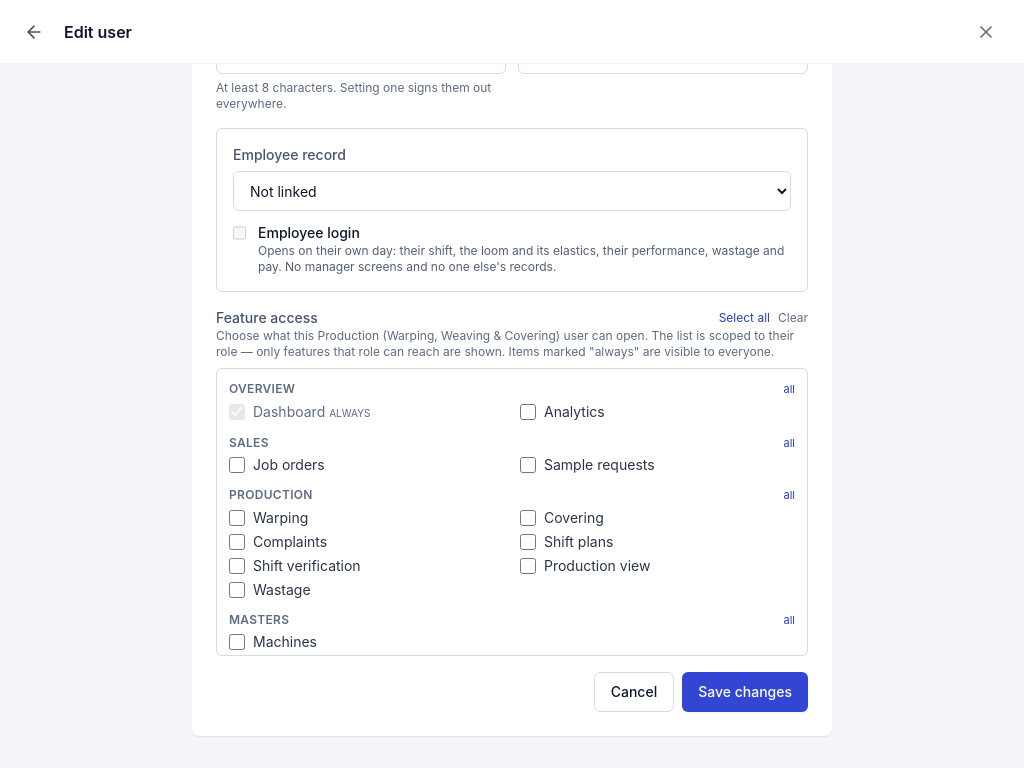
it: UserFormScreen — no-access confirmation › treats an always-on-only list as no access
This screenshot has width=1024, height=768.
(page scrolled)
Click the button "Save changes".
click(745, 692)  # box left=682, top=672, right=808, bottom=712
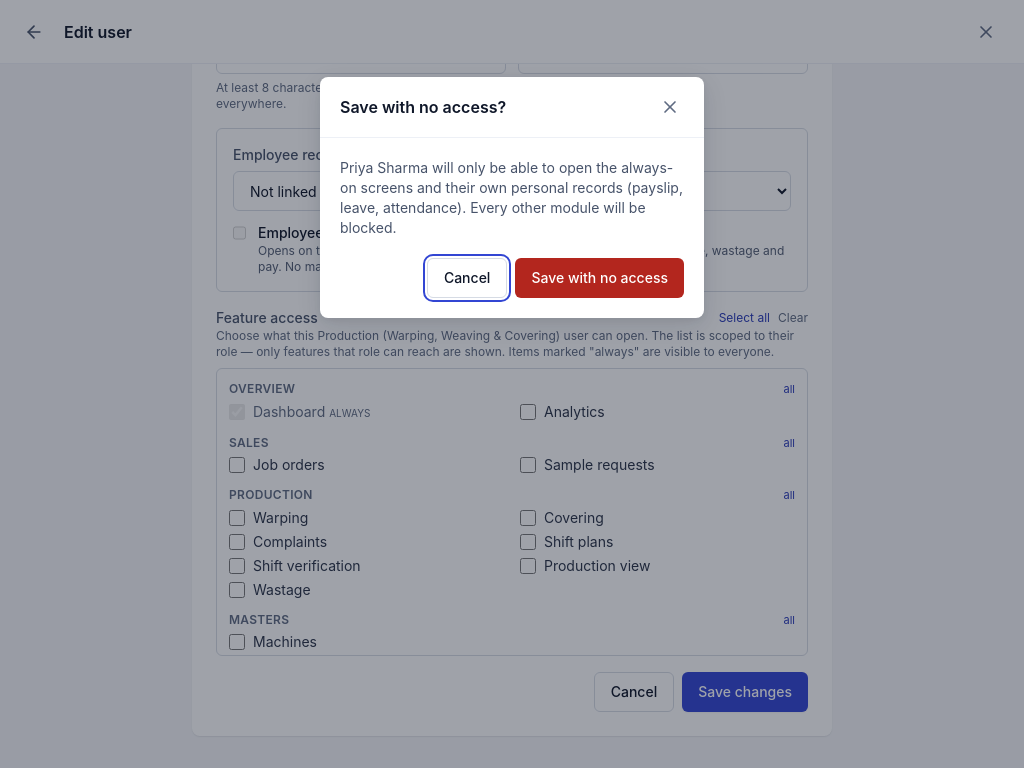
Expected: the heading "Save with no access?" is shown, left=340, top=95, right=506, bottom=119
